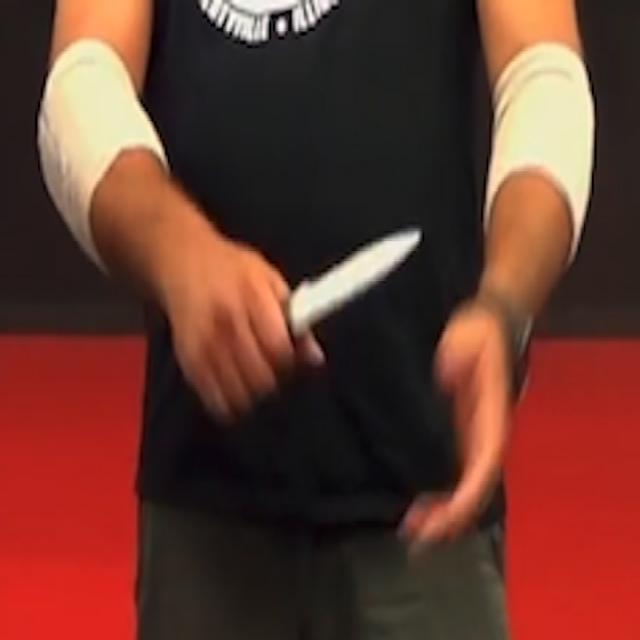suspicion: (32, 3, 430, 430), (284, 223, 426, 334)
